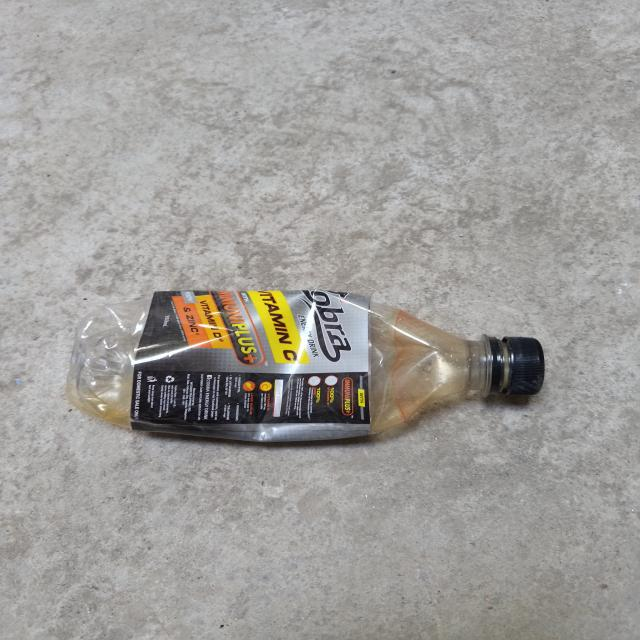Bottle: (67, 290, 544, 442)
